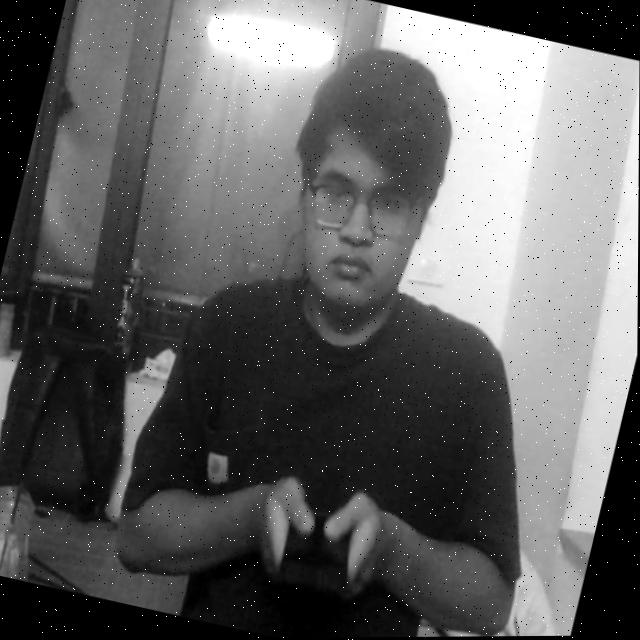phone: (255, 468, 383, 626)
